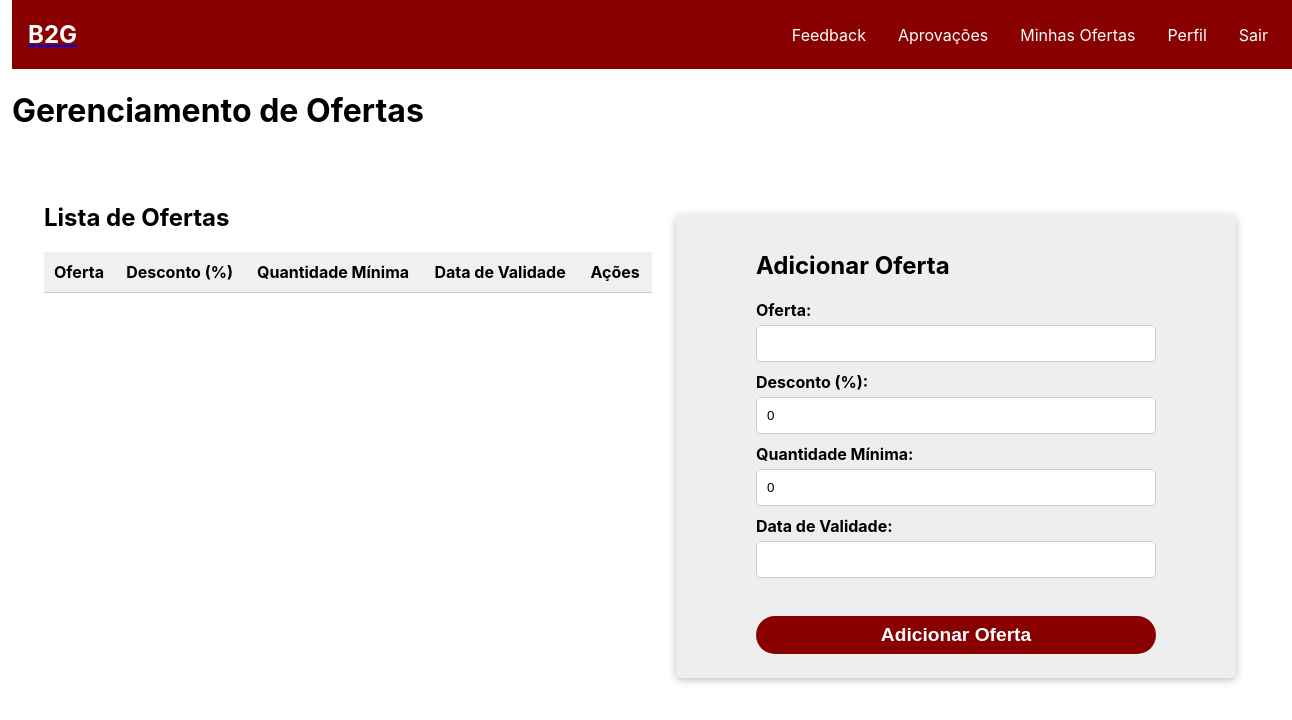
ManageOffers component › deletes an existing offer
The width and height of the screenshot is (1292, 720).
In the field named "Oferta": point(956, 343) left=756, top=325, right=1156, bottom=362, type "Test Offer"
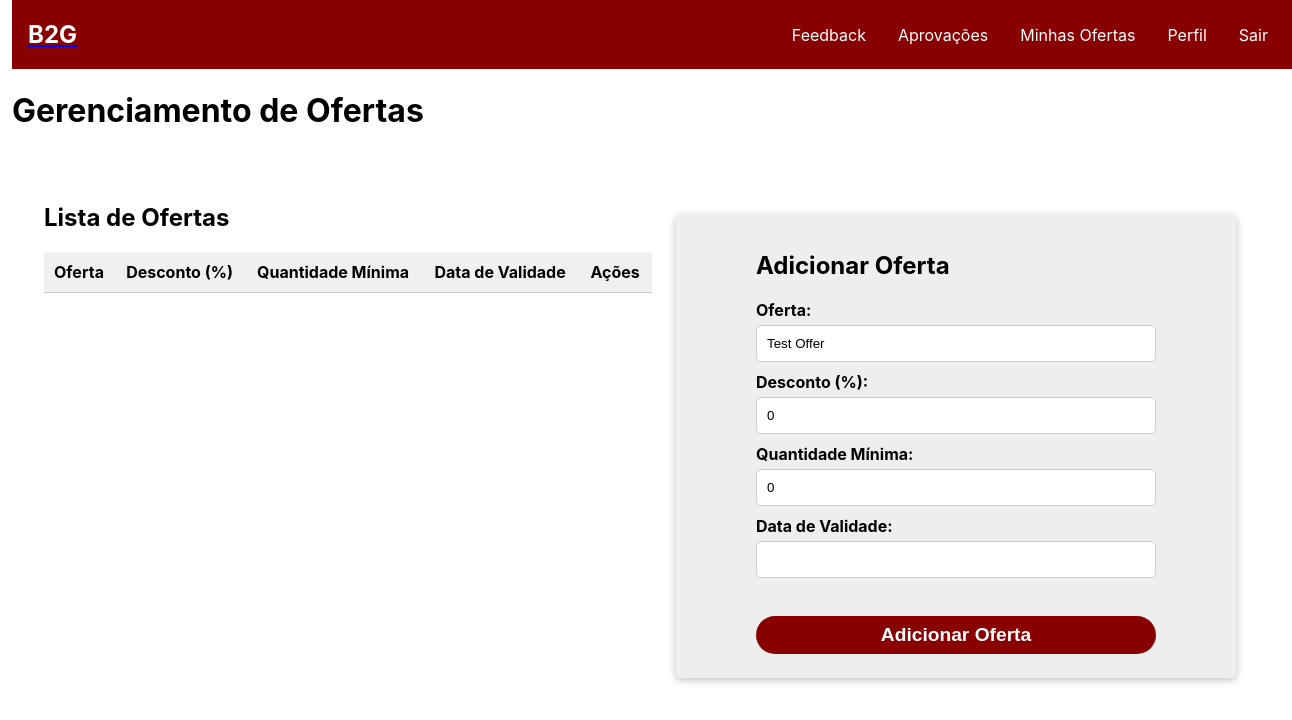
Replace the text in the number field named "Desconto (%)" with "10": point(956, 415) left=756, top=397, right=1156, bottom=434
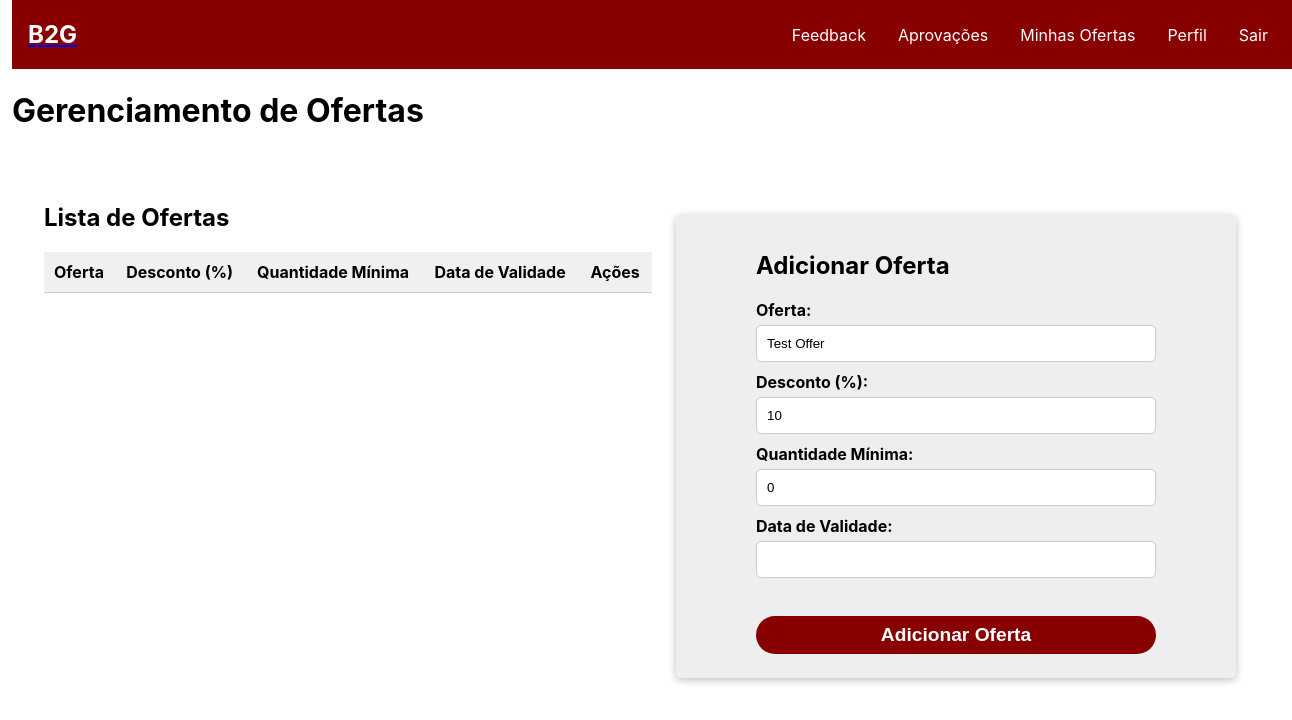
Replace the text in the number field named "Quantidade Mínima" with "5": point(956, 487) left=756, top=469, right=1156, bottom=506
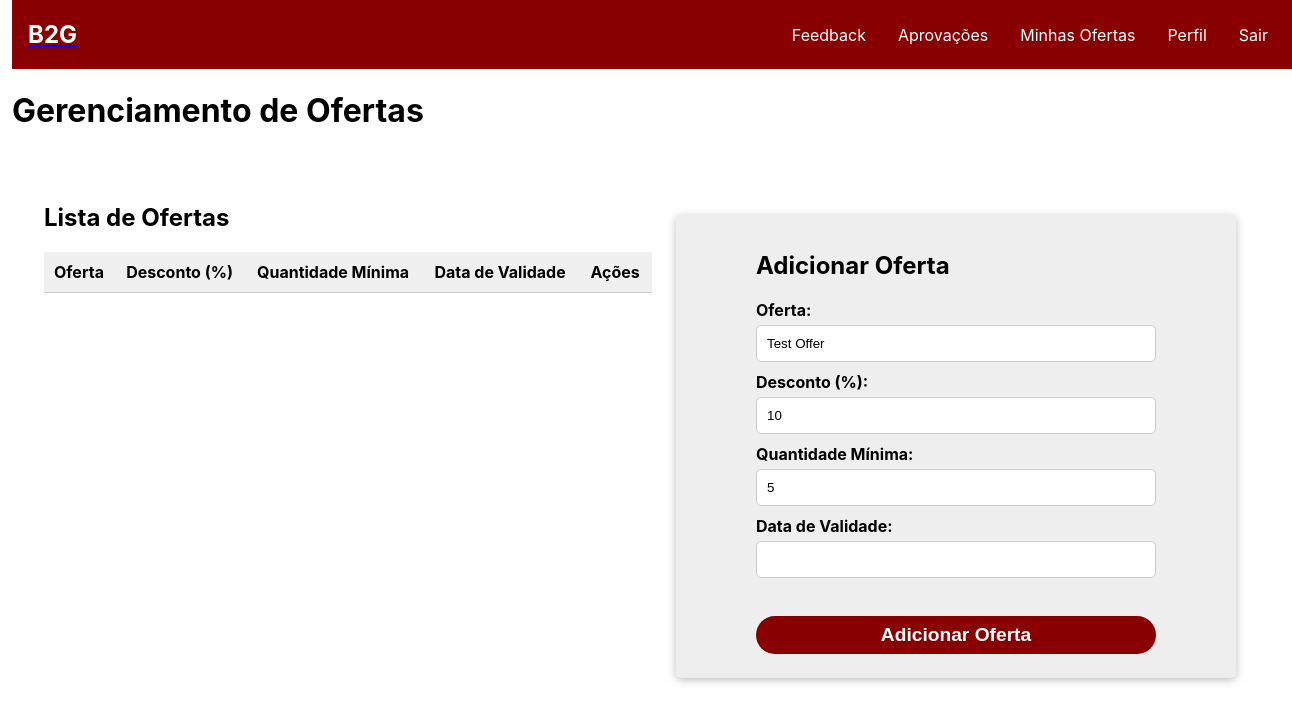
In the field named "Data de Validade": point(956, 559) left=756, top=541, right=1156, bottom=578, type "2023-01-15"
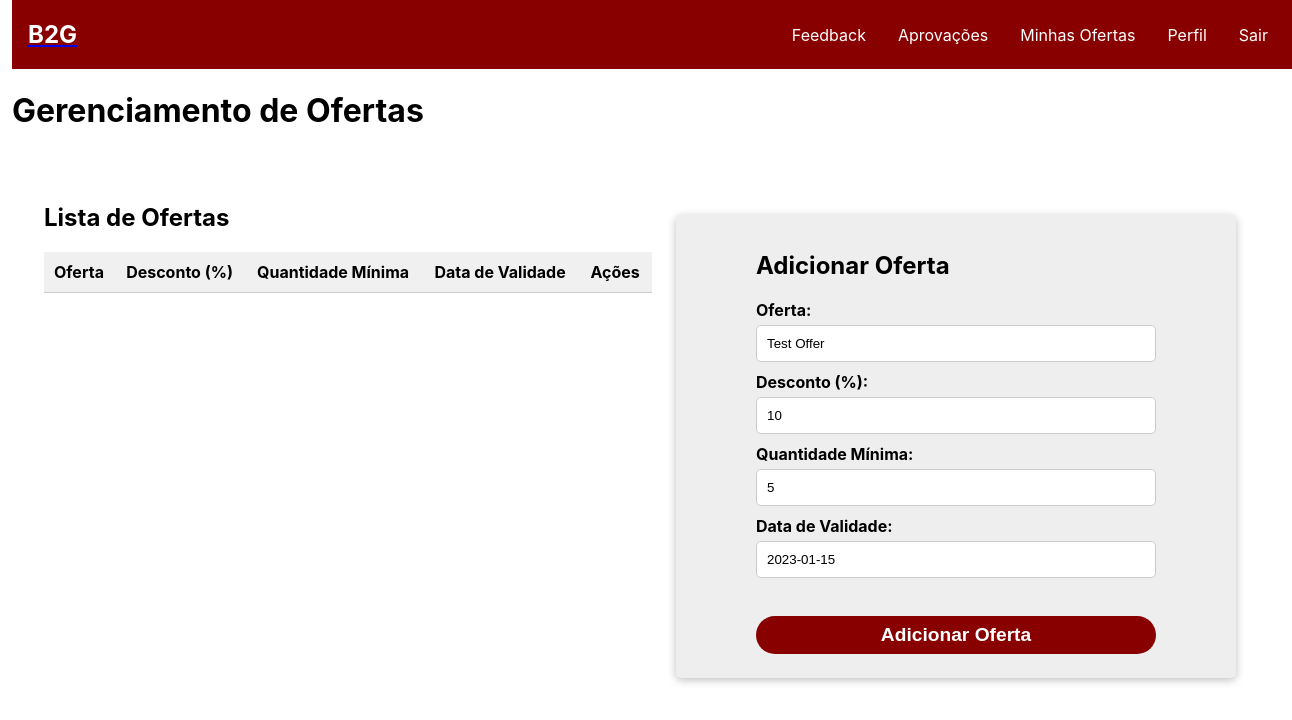
Click the button "Adicionar Oferta": point(956, 635) left=756, top=616, right=1156, bottom=654
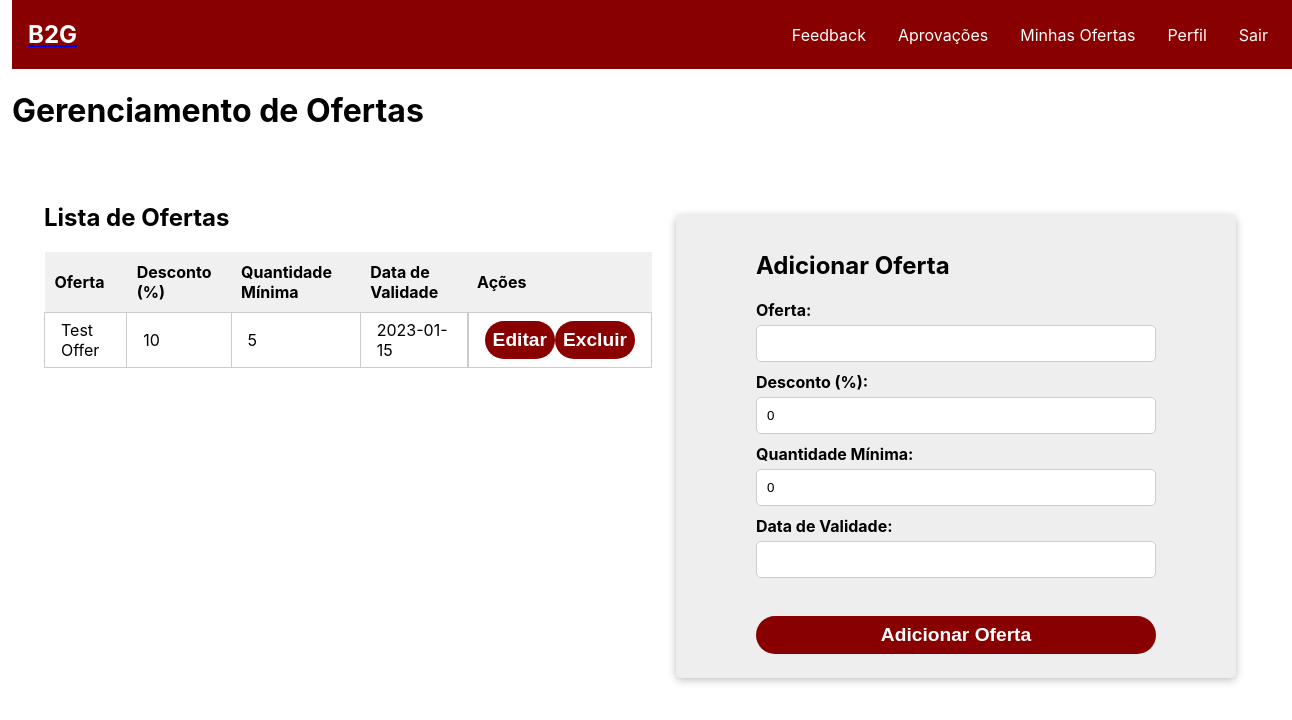
Click the button "Excluir": point(595, 340) left=555, top=321, right=635, bottom=359
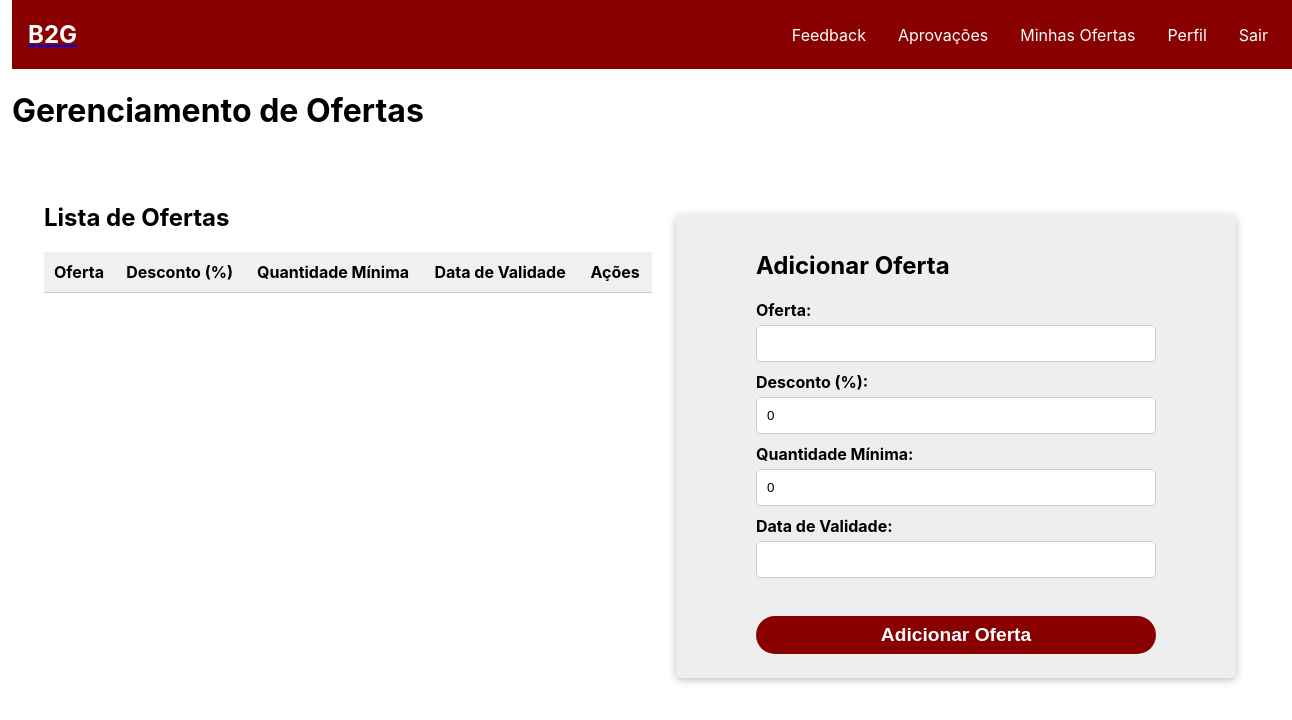
Check: the text "Test Offer" is gone
